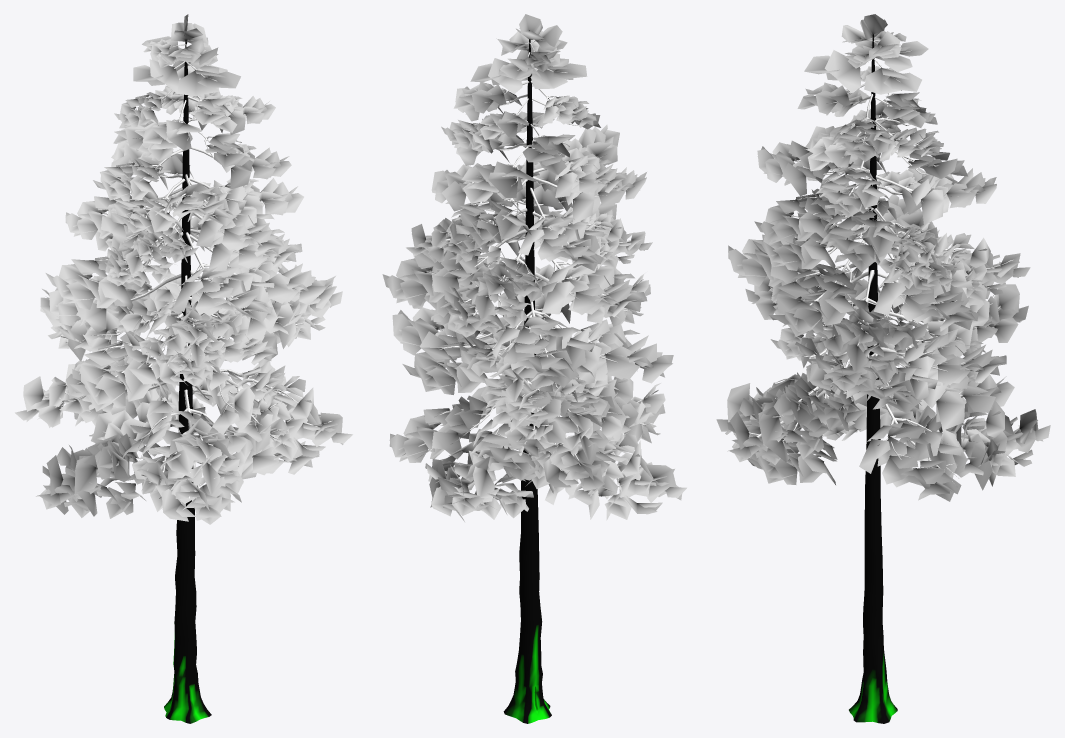
Rendered from Spruce A (VRay).FBX.
3 views of the same model, side by side, from view 1: azimuth 30°, elevation 25°; view 2: azimuth 150°, elevation 25°; view 3: azimuth 270°, elevation 25° (orthographic).
Visible parts, largest first — view 1: Needles, Trunk, Branches_Mid, Branches_High; view 2: Needles, Trunk, Branches_High, Branches_Mid; view 3: Needles, Trunk, Branches_High, Branches_Mid.
Boxes of the visible parts, x1,y1,x2,y2 form: Needles: (15, 14, 352, 524); Trunk: (164, 39, 211, 723); Branches_Mid: (43, 270, 333, 503); Branches_High: (88, 42, 274, 313); Needles: (382, 14, 686, 521); Trunk: (503, 30, 551, 723); Branches_High: (422, 41, 632, 315); Branches_Mid: (402, 255, 658, 470); Needles: (716, 14, 1050, 501); Trunk: (849, 34, 897, 723); Branches_High: (789, 39, 1014, 305); Branches_Mid: (748, 269, 1000, 487).
Bounding box in the file's own units: 291 × 662 × 286.
